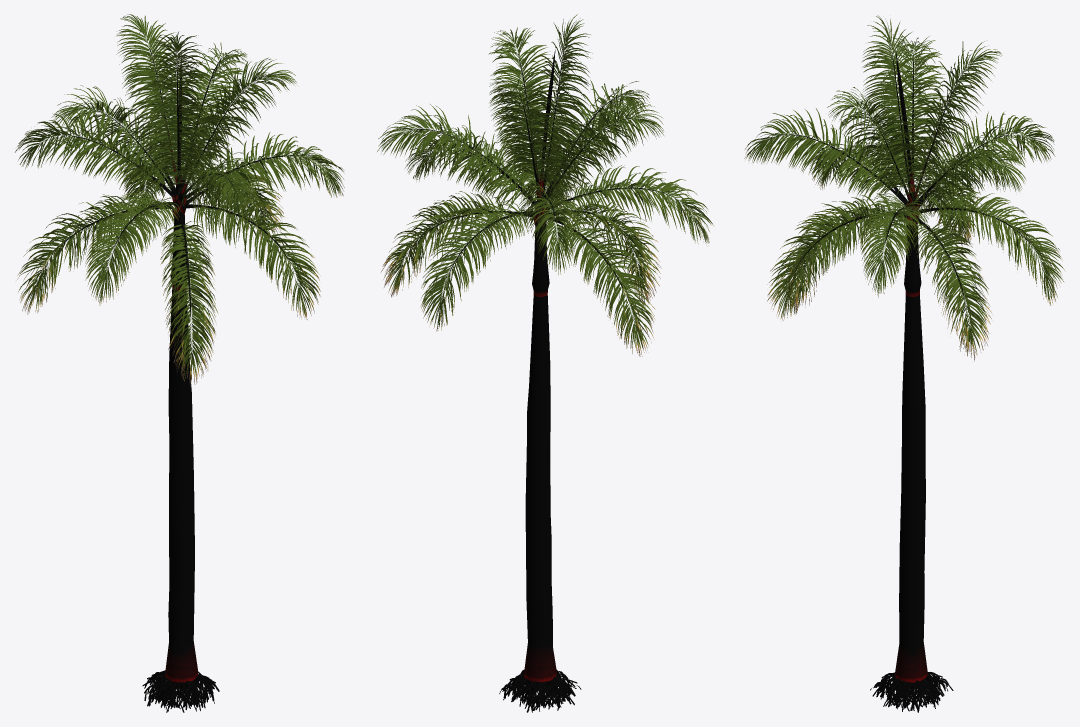
File: palm_royal.glb
3 views of the same model, side by side, from view 1: azimuth 30°, elevation 25°; view 2: azimuth 150°, elevation 25°; view 3: azimuth 270°, elevation 25° (orthographic).
Visible parts, largest first — view 1: Roystonea_regia_HD; view 2: Roystonea_regia_HD; view 3: Roystonea_regia_HD.
Boxes of the visible parts, left/top/right/bottom form: Roystonea_regia_HD: left=15, top=14, right=344, bottom=712; Roystonea_regia_HD: left=377, top=14, right=713, bottom=712; Roystonea_regia_HD: left=744, top=15, right=1065, bottom=712.
Size of the model in its own units: 7.5 by 17.09 by 7.35.
Materials: 8 (8 with a texture image).
